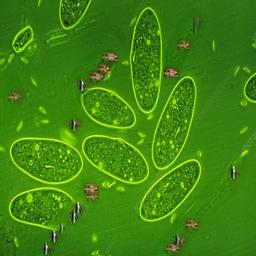Paramecium: (152, 75, 198, 170), (138, 159, 201, 223), (130, 8, 162, 114), (83, 134, 149, 185), (10, 138, 83, 184), (82, 88, 136, 129)
